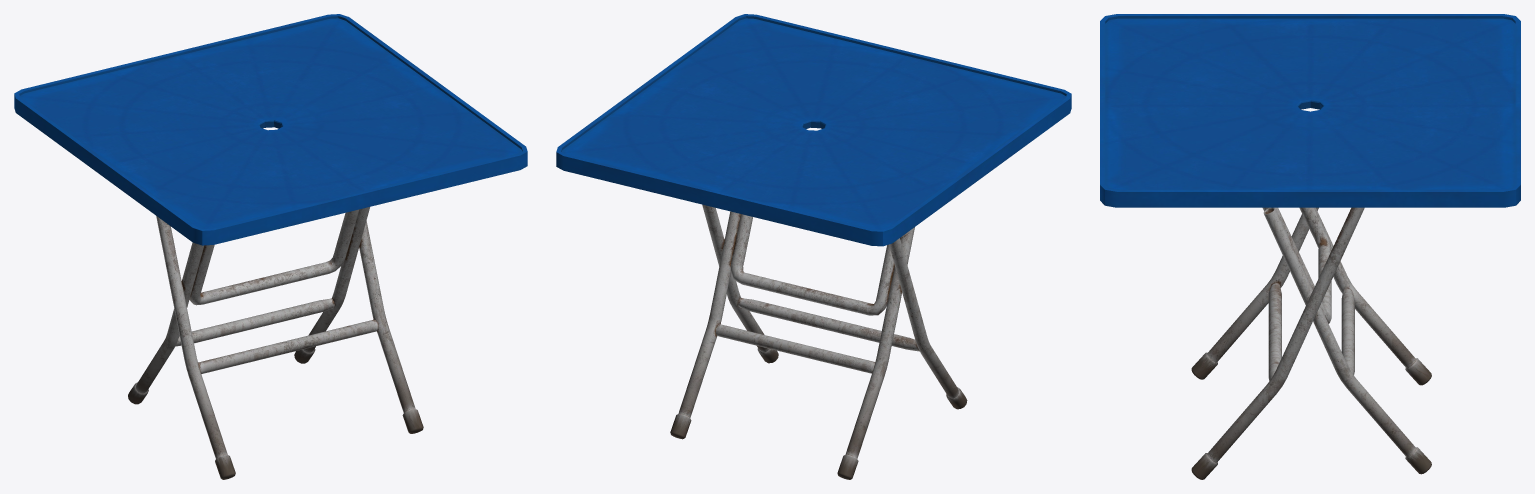
Rendered from table (1)_opt.glb.
3 renders of one model, left to right at view 1: azimuth 30°, elevation 25°; view 2: azimuth 150°, elevation 25°; view 3: azimuth 270°, elevation 25°, orthographic. The views are drawn at different scales.
Parts seen in each view (by area): view 1: Table_lambert1_0; view 2: Table_lambert1_0; view 3: Table_lambert1_0.
Boxes of the visible parts, bbox=[...] form: Table_lambert1_0: bbox=[14, 14, 527, 479]; Table_lambert1_0: bbox=[556, 14, 1071, 479]; Table_lambert1_0: bbox=[1100, 14, 1520, 479].
Size of the model in its own units: 0.74 by 0.6324 by 0.74.
Materials: 1 (1 with a texture image).
